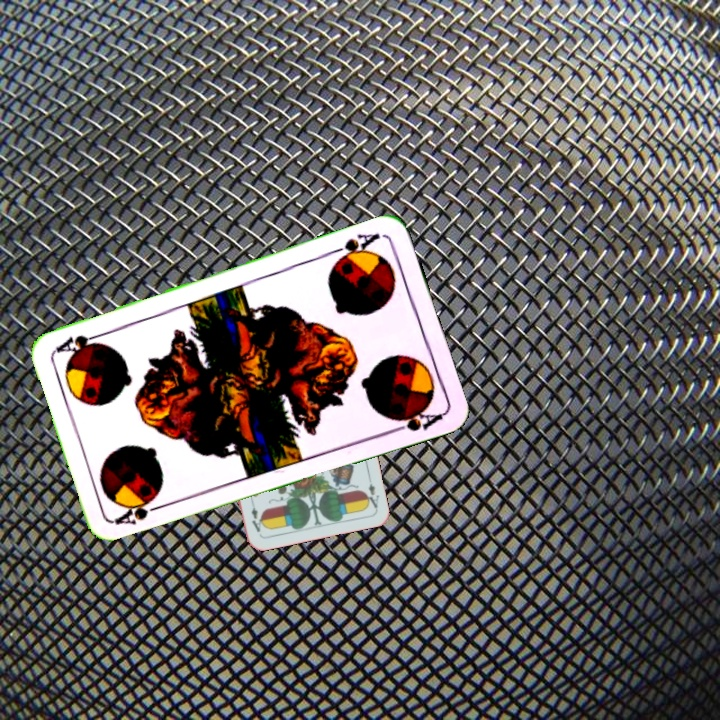EA: (361, 471, 382, 511)
SA: (327, 229, 383, 266), (111, 494, 168, 528)
